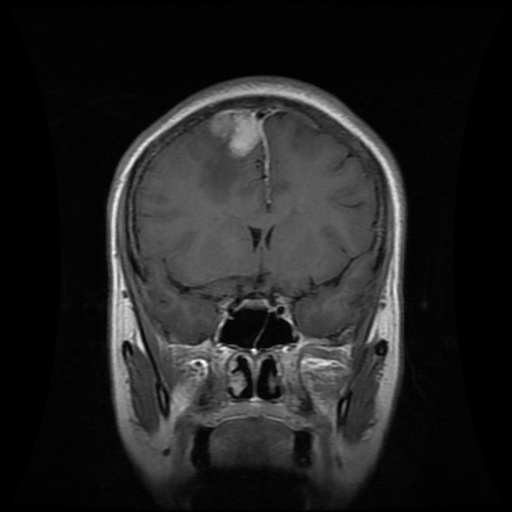meningioma: (210, 110, 261, 155)
